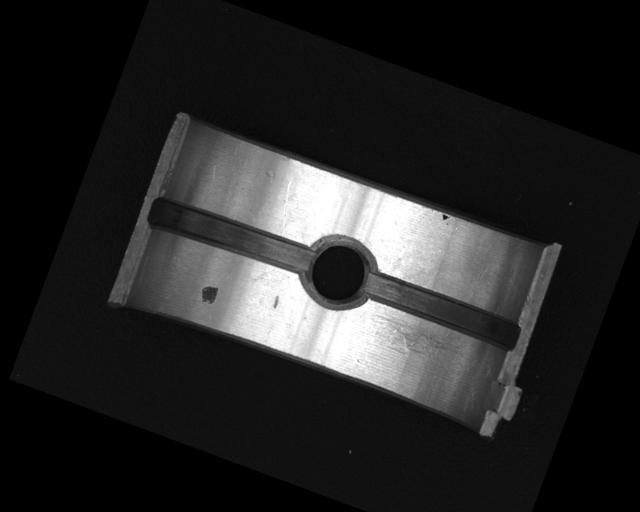blot: (197, 282, 220, 307), (439, 212, 452, 226)
bruise: (270, 294, 280, 309)
gap: (144, 191, 318, 286), (362, 268, 523, 349)
hole: (297, 227, 384, 317)
nick: (269, 180, 300, 234)
scratch: (364, 308, 473, 370)
